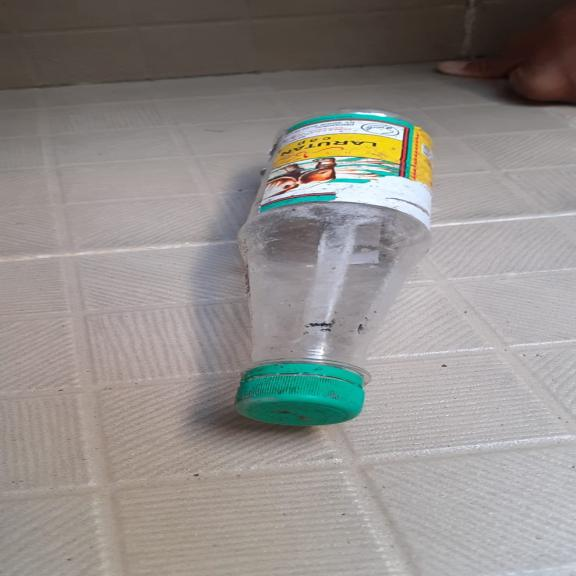Plastik: (224, 100, 441, 435)
